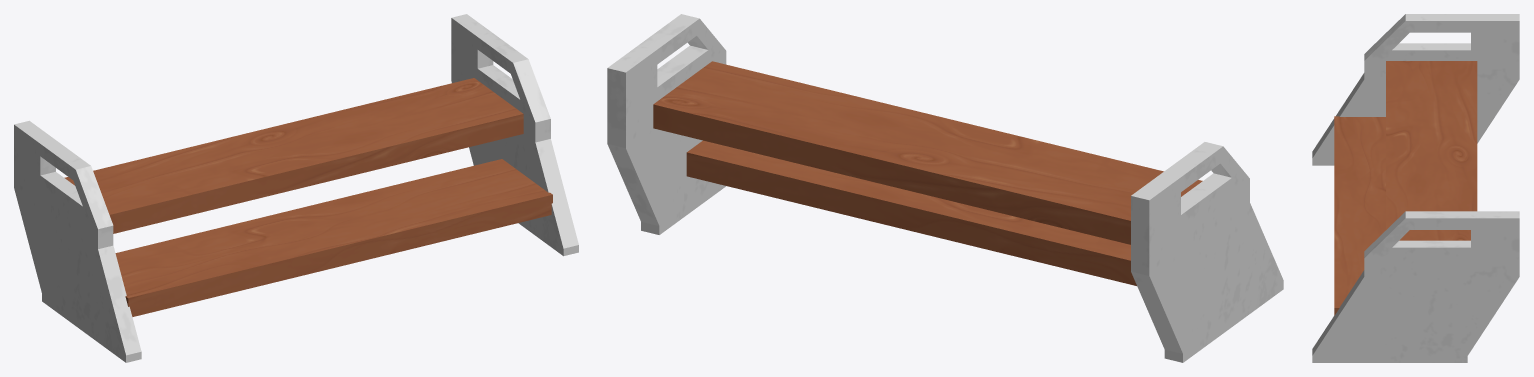
File: Train Stair_A_001.fbx
3 renders of one model, left to right at view 1: azimuth 30°, elevation 25°; view 2: azimuth 150°, elevation 25°; view 3: azimuth 270°, elevation 25°, orthographic. The views are drawn at different scales.
Parts seen in each view (by area): view 1: Train_Stair_A_001; view 2: Train_Stair_A_001; view 3: Train_Stair_A_001.
Boxes of the visible parts, x1=… form: Train_Stair_A_001: x1=14, y1=14, x2=578, y2=362; Train_Stair_A_001: x1=607, y1=14, x2=1283, y2=362; Train_Stair_A_001: x1=1312, y1=14, x2=1519, y2=362.
Bounding box in the file's own units: 92.7 × 30.6 × 39.75.
2 materials, 2 textured.
